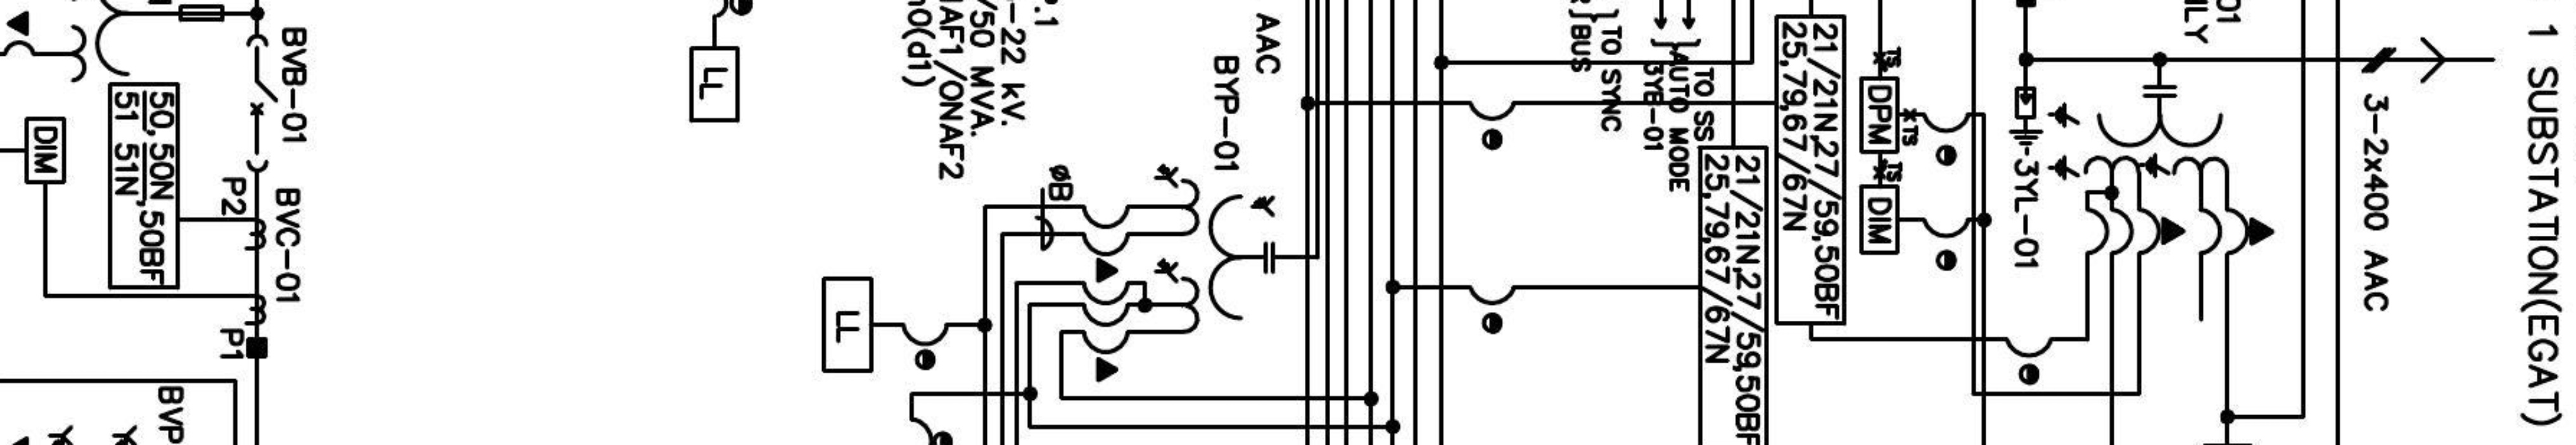115_cvt_1p: (2045, 85, 2277, 256)
115_cvt_3p: (1153, 163, 1276, 335)
115_la: (2008, 85, 2045, 158)
22_breaker: (245, 33, 279, 172)
DIM: (1858, 184, 1901, 256), (25, 117, 67, 186)
DPM: (1858, 76, 1901, 154)
LL: (821, 276, 874, 373), (688, 46, 739, 123)
